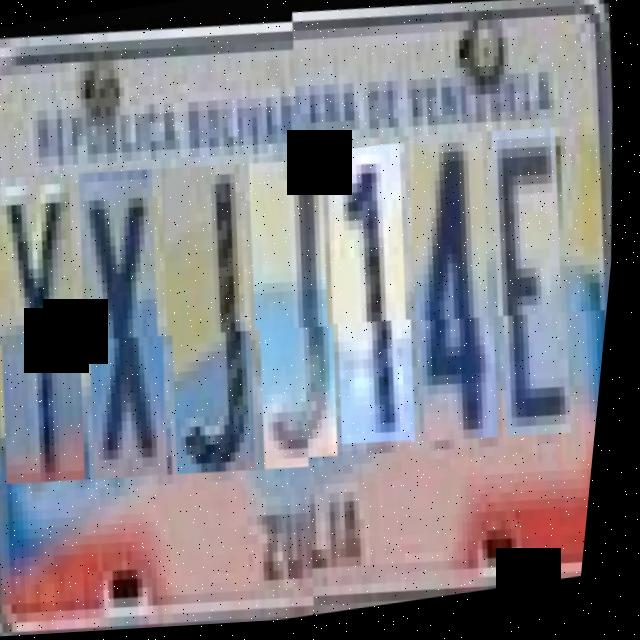1: (311, 144, 443, 461)
4: (393, 138, 526, 456)
E: (475, 125, 600, 450)
J: (144, 154, 284, 482), (232, 149, 365, 476)
X: (62, 160, 196, 487)
Y: (0, 165, 113, 492)
